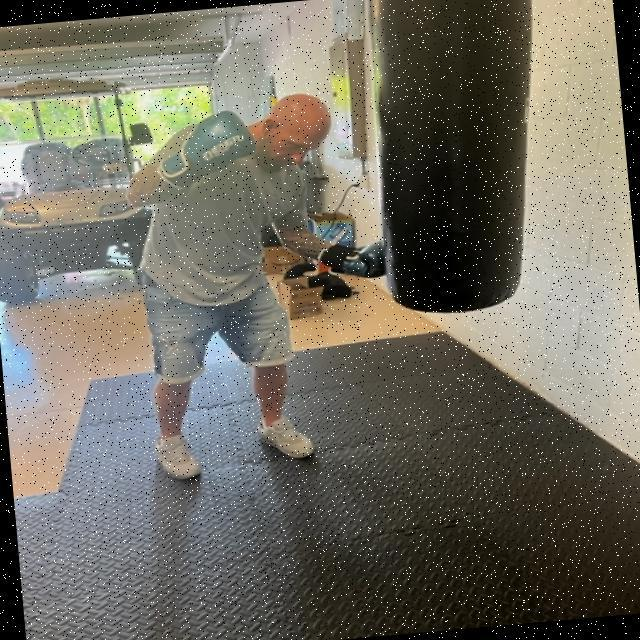uppercut: (128, 74, 456, 312)
